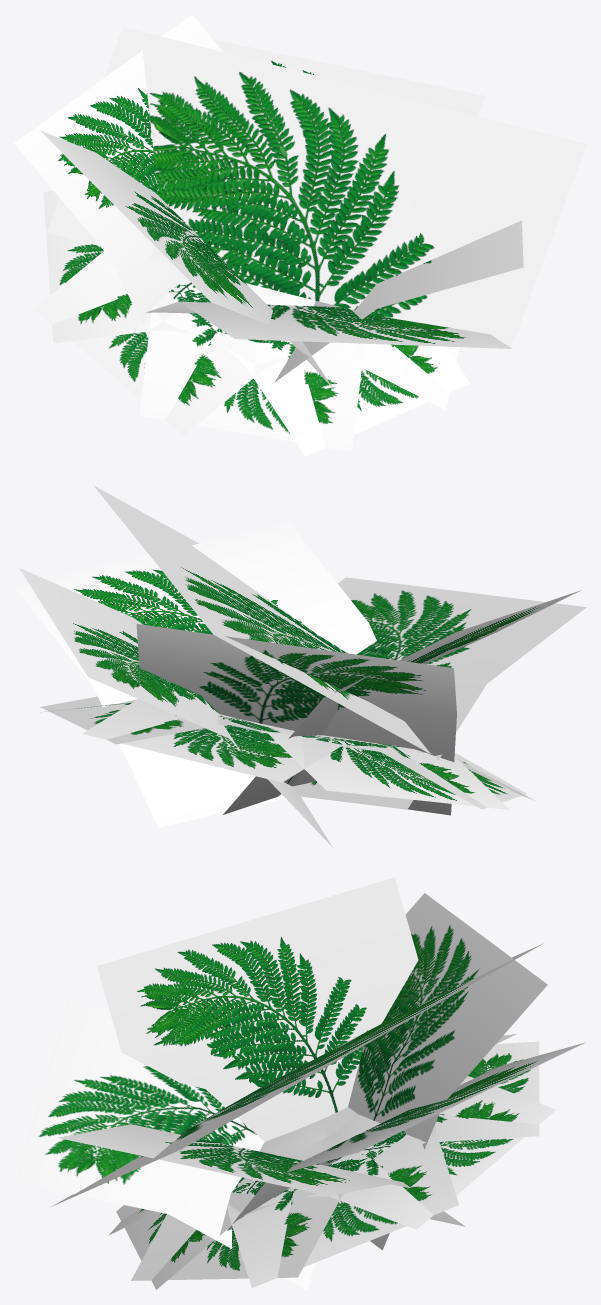
File: Plant.fbx
3 views of the same model, one above another, from view 1: azimuth 30°, elevation 25°; view 2: azimuth 150°, elevation 25°; view 3: azimuth 270°, elevation 25° (orthographic). The views are drawn at different scales.
Parts seen in each view (by area): view 1: pPlane16; view 2: pPlane16; view 3: pPlane16.
Part boxes in pixels (x1=…): pPlane16: x1=14, y1=15, x2=586, y2=456; pPlane16: x1=14, y1=485, x2=586, y2=847; pPlane16: x1=14, y1=877, x2=585, y2=1290.
Bounding box in the file's own units: 4.29 × 2.42 × 4.42.
